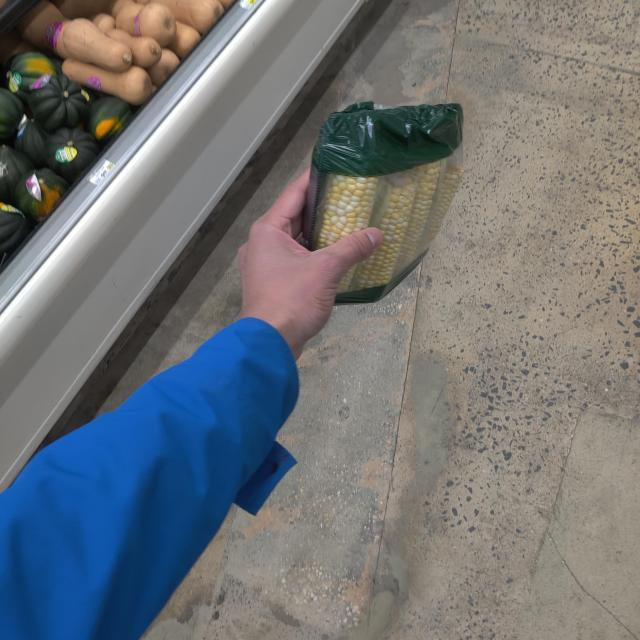Corn: (306, 96, 463, 299)
